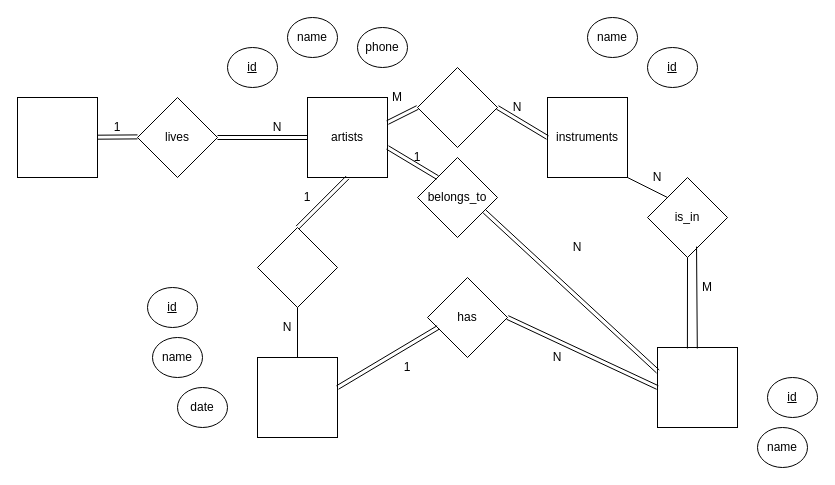
The diagram is 835 pixels wide and 485 high, and some of its shapes have lost their labels. The centre of each missing label's shape, as x and y in pixels:
"address" goes at (x=57, y=137).
"albums" goes at (x=297, y=397).
"plays" goes at (x=457, y=107).
"releases" goes at (x=297, y=267).
"songs" goes at (x=697, y=387).
